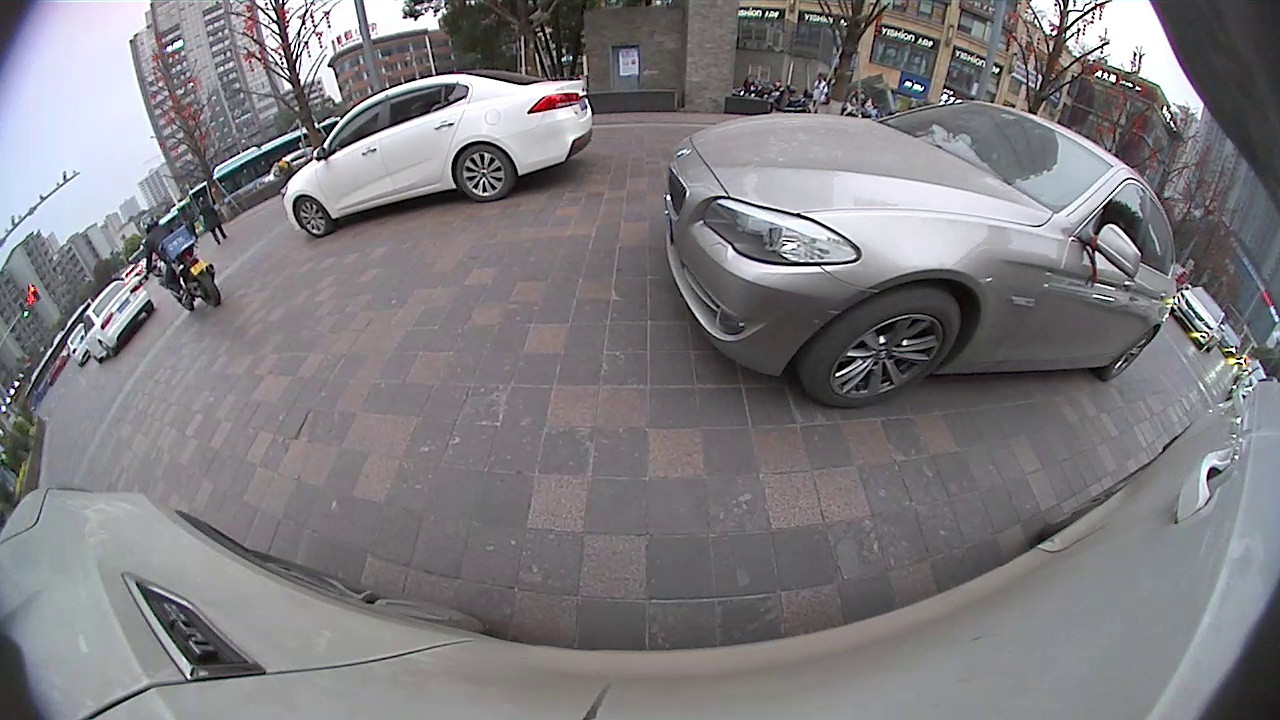car: (661, 98, 1179, 412), (280, 68, 595, 240), (81, 276, 157, 364), (1169, 284, 1229, 351)
front: (792, 283, 967, 411), (291, 194, 334, 239)
rear: (453, 140, 517, 205), (1102, 323, 1157, 386)
rider: (138, 213, 223, 309)
